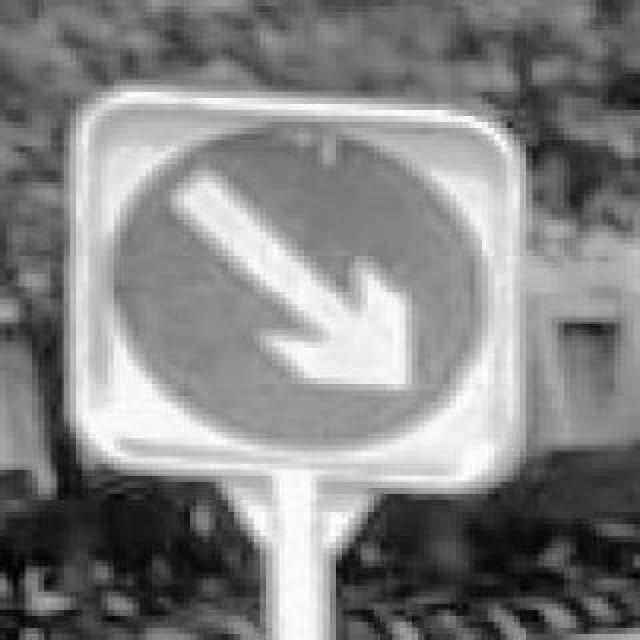keep right: (96, 110, 488, 450)
